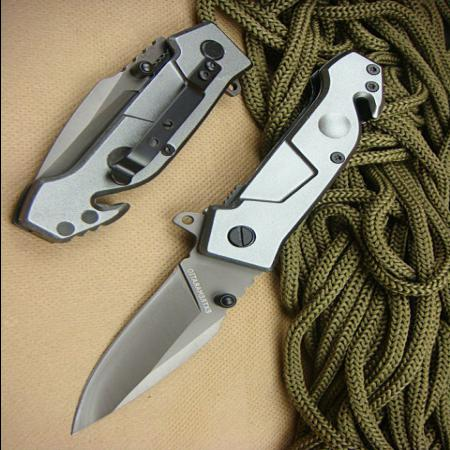long weapon: (64, 246, 270, 441)
